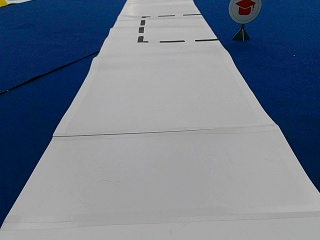school: (227, 0, 260, 23)
